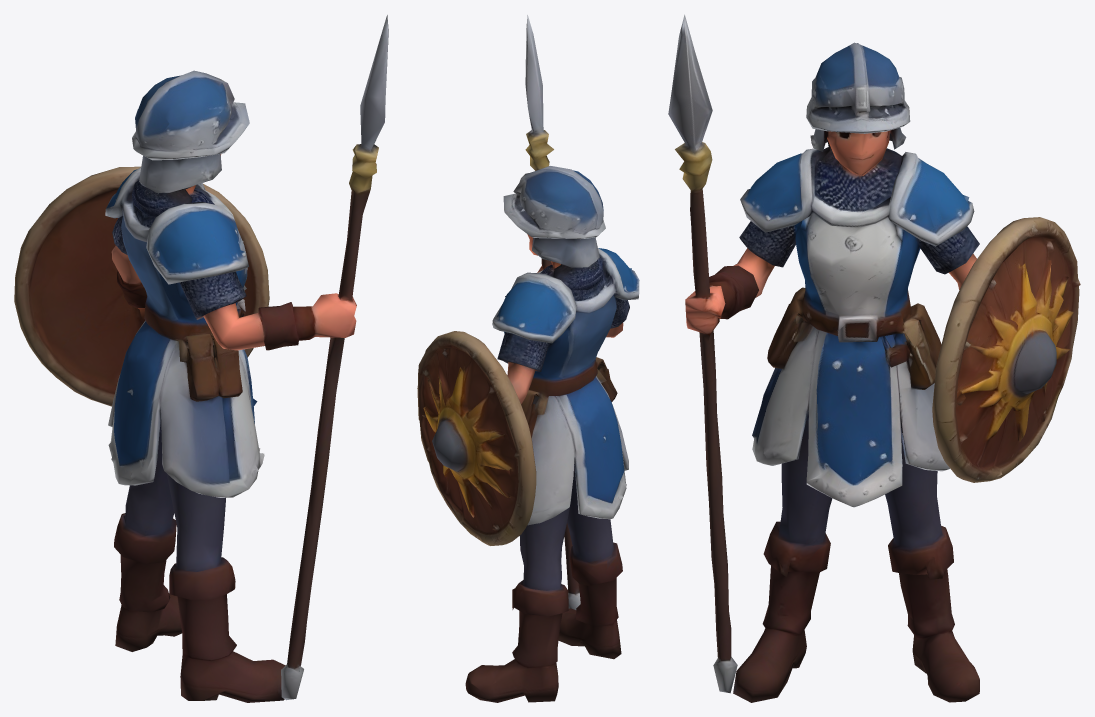
Rendered from villager_guard.glb.
3 views of the same model, side by side, from view 1: azimuth 30°, elevation 25°; view 2: azimuth 150°, elevation 25°; view 3: azimuth 270°, elevation 25° (orthographic). The views are drawn at different scales.
Visible parts, largest first — view 1: tripo_node_71098a22-3752-46a2-844d-ff33dbd4af80; view 2: tripo_node_71098a22-3752-46a2-844d-ff33dbd4af80; view 3: tripo_node_71098a22-3752-46a2-844d-ff33dbd4af80.
Boxes of the visible parts, <box> form: tripo_node_71098a22-3752-46a2-844d-ff33dbd4af80: <box>14,15,388,702</box>; tripo_node_71098a22-3752-46a2-844d-ff33dbd4af80: <box>417,15,639,702</box>; tripo_node_71098a22-3752-46a2-844d-ff33dbd4af80: <box>668,14,1080,702</box>.
Size of the model in its own units: 0.2978 by 1 by 0.518.
Materials: 1 (1 with a texture image).
